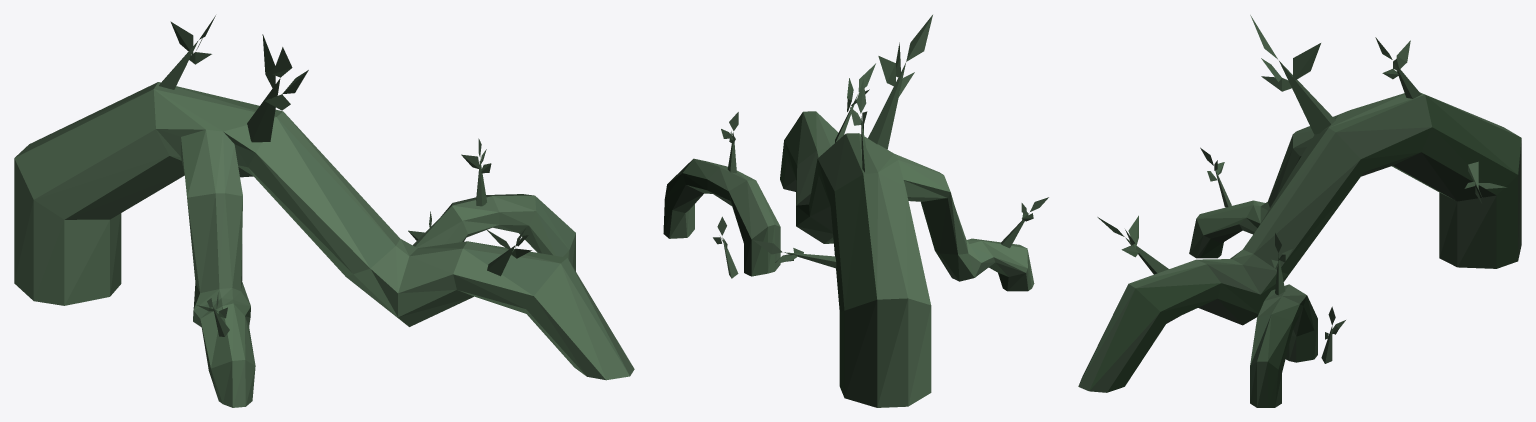
The model's file is roots2.fbx.
3 renders of one model, left to right at view 1: azimuth 30°, elevation 25°; view 2: azimuth 150°, elevation 25°; view 3: azimuth 270°, elevation 25°, orthographic. The views are drawn at different scales.
Parts seen in each view (by area): view 1: Object Roots 2024-03-15_11-54-11; view 2: Object Roots 2024-03-15_11-54-11; view 3: Object Roots 2024-03-15_11-54-11.
Boxes of the visible parts, bbox=[...] form: Object Roots 2024-03-15_11-54-11: bbox=[14, 15, 634, 407]; Object Roots 2024-03-15_11-54-11: bbox=[663, 15, 1048, 407]; Object Roots 2024-03-15_11-54-11: bbox=[1078, 15, 1521, 407].
Bounding box in the file's own units: 34800 × 25000 × 37200.
